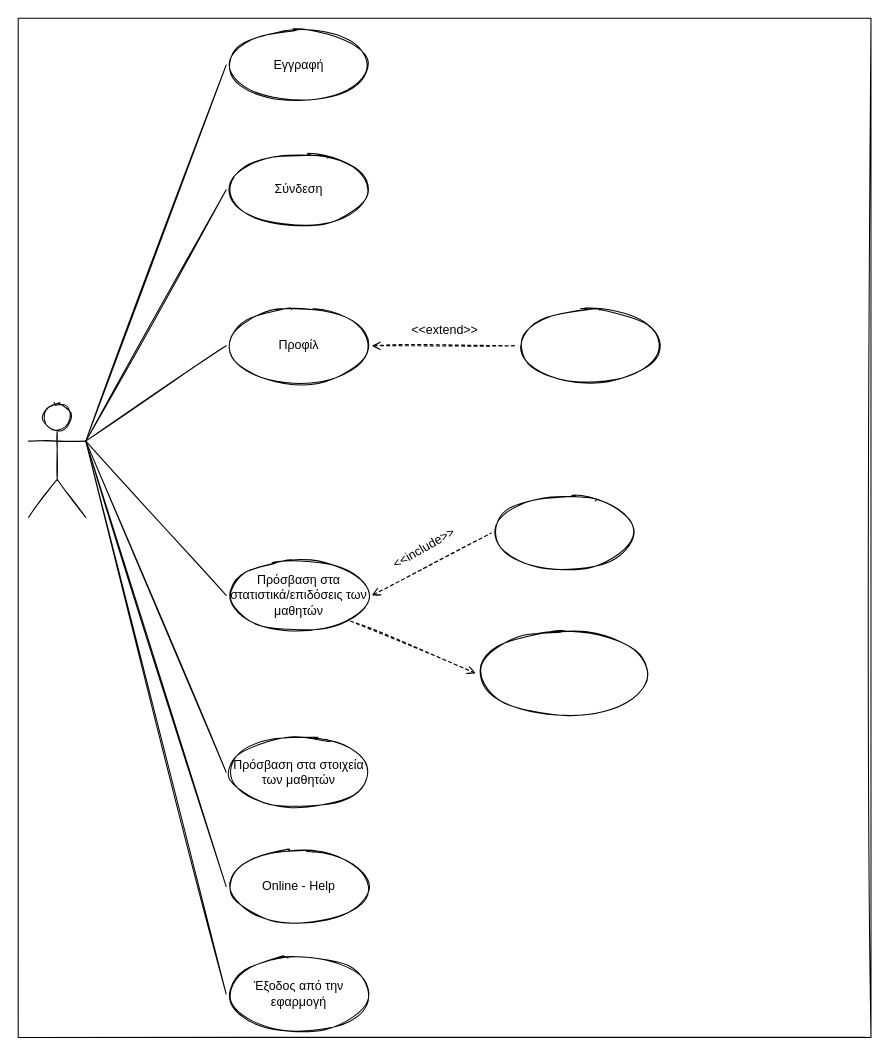
The diagram is 889 pixels wide and 1056 high, and some of its shapes have lost their labels. Each missing label, with the box of its shape:
Αλλαγή κωδικού πρόσβασης: (516, 308, 663, 382)
Αναλυτική επεξήγηση της προόδου και των λαθών τους: (475, 631, 653, 715)
Επιλογή μαθητή μέσω του id του: (490, 496, 637, 569)
Καθηγητής: (28, 402, 86, 517)
